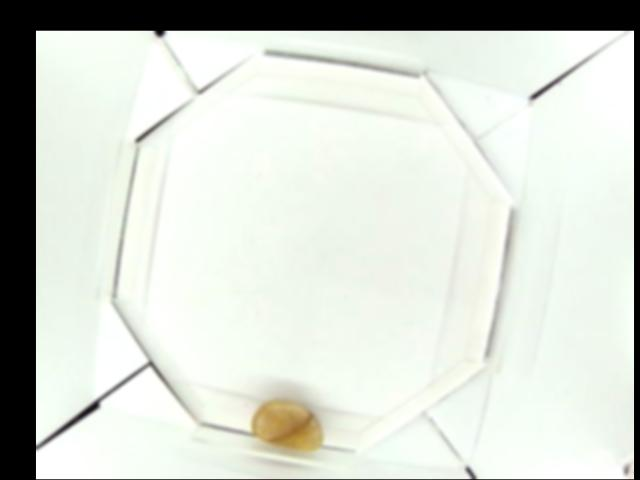Pebble: (246, 401, 323, 454)
